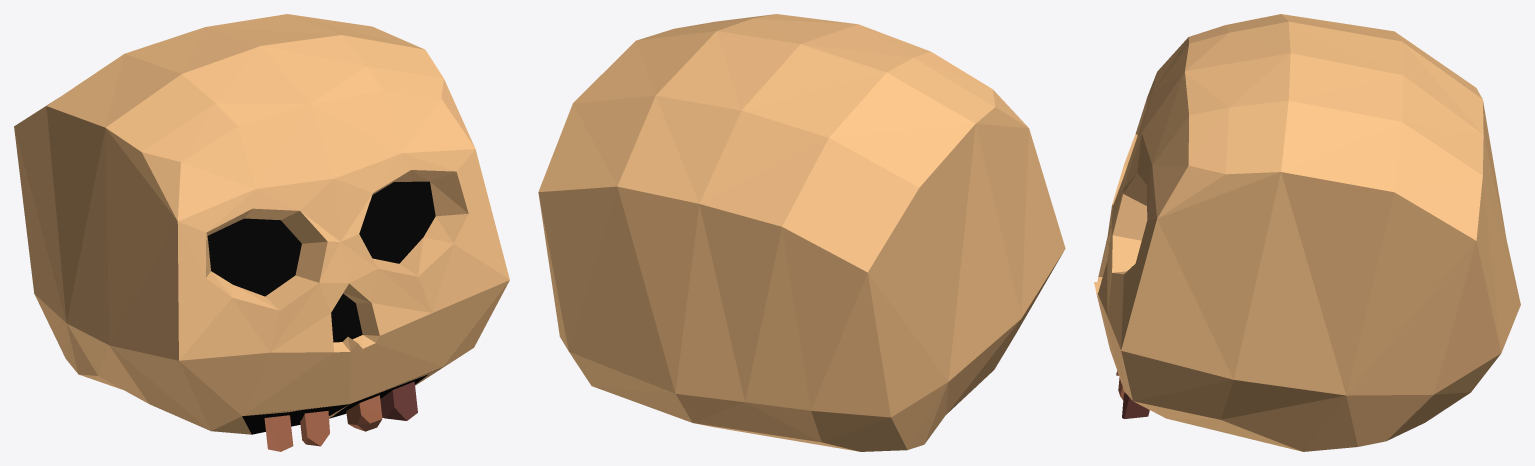
File: Skull 03.fbx
3 views of the same model, side by side, from view 1: azimuth 30°, elevation 25°; view 2: azimuth 150°, elevation 25°; view 3: azimuth 270°, elevation 25° (orthographic). The views are drawn at different scales.
Parts seen in each view (by area): view 1: Skull 03; view 2: Skull 03; view 3: Skull 03.
Boxes of the visible parts, x1,y1,x2,y2 form: Skull 03: (14,14,509,451); Skull 03: (538,14,1065,451); Skull 03: (1094,14,1520,451).
Bounding box in the file's own units: 21.54 × 19.08 × 21.9.
